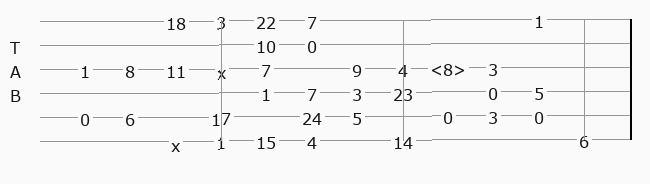0: (80, 108, 94, 124), (307, 36, 321, 52), (443, 108, 457, 124), (488, 84, 502, 100), (534, 108, 548, 124)
1: (80, 60, 94, 76), (216, 132, 230, 148), (261, 84, 275, 100), (534, 12, 548, 28)
10: (256, 36, 280, 52)
11: (166, 60, 190, 76)
14: (393, 132, 417, 148)
15: (256, 132, 280, 148)
17: (211, 108, 235, 124)
18: (166, 12, 190, 28)
22: (256, 12, 280, 28)
23: (393, 84, 417, 100)
24: (302, 108, 326, 124)
3: (216, 12, 230, 28), (352, 84, 366, 100), (488, 108, 502, 124), (488, 60, 502, 76)
4: (307, 132, 321, 148), (398, 60, 412, 76)
5: (352, 108, 366, 124), (534, 84, 548, 100)
6: (125, 108, 139, 124), (579, 132, 593, 148)
7: (261, 60, 275, 76), (307, 12, 321, 28), (307, 84, 321, 100)
8: (125, 60, 139, 76)
9: (352, 60, 366, 76)
harmonic: (430, 60, 470, 76)
x: (171, 134, 184, 147), (217, 62, 230, 75)
